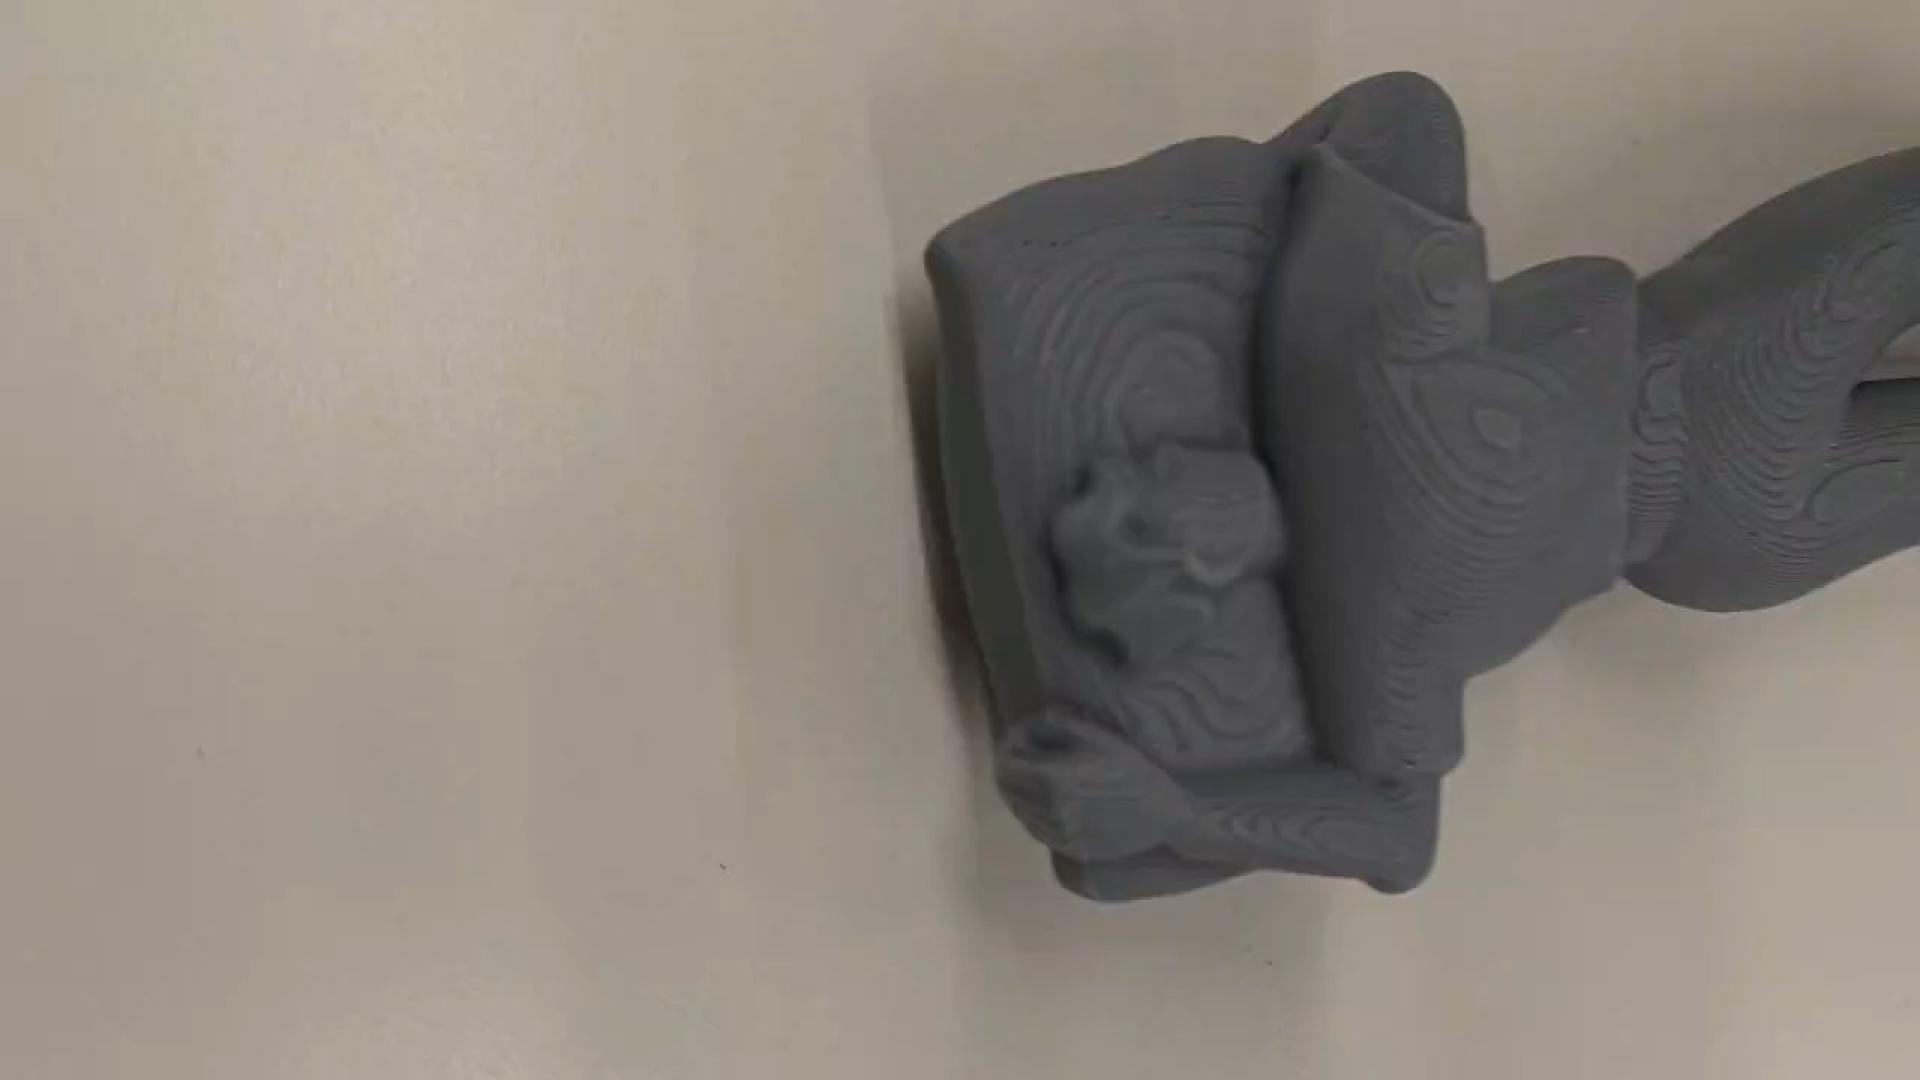Bad-style: (922, 65, 1920, 915)
